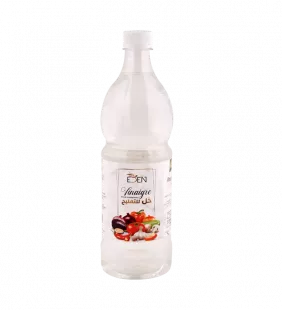EDEN: (91, 20, 181, 285)
